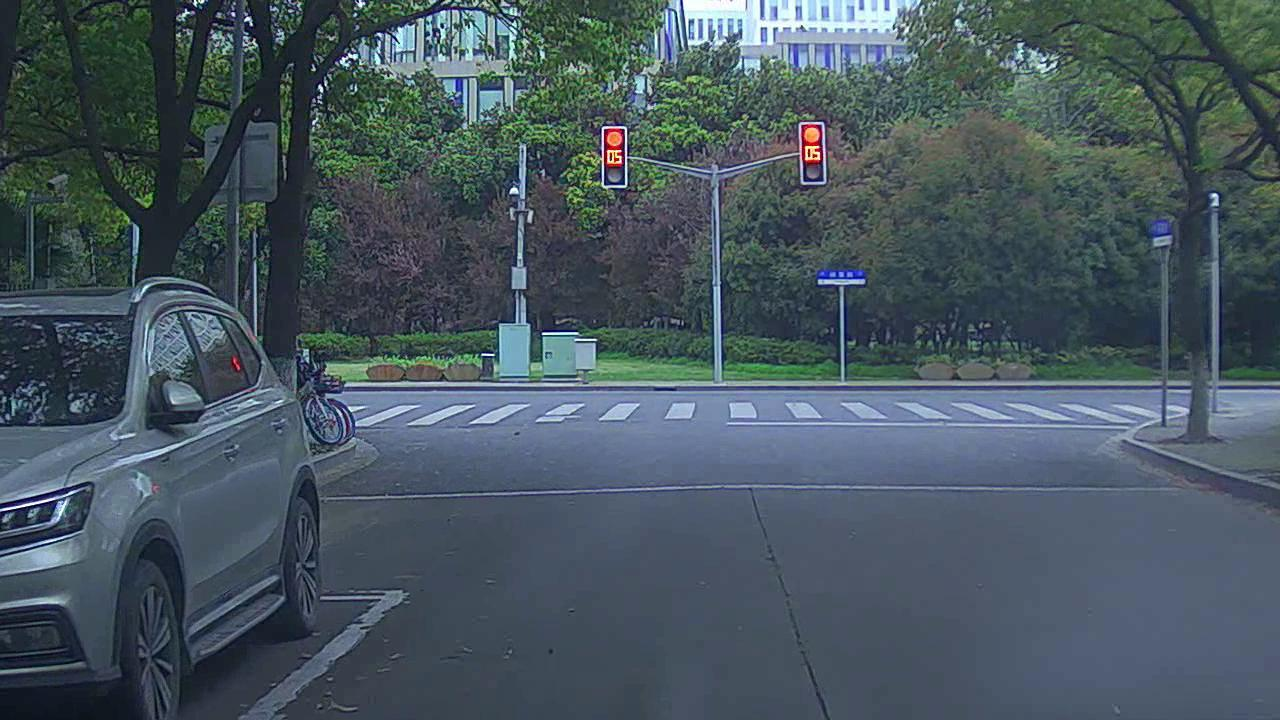traffic_light: (800, 118, 829, 189), (601, 124, 628, 193)
